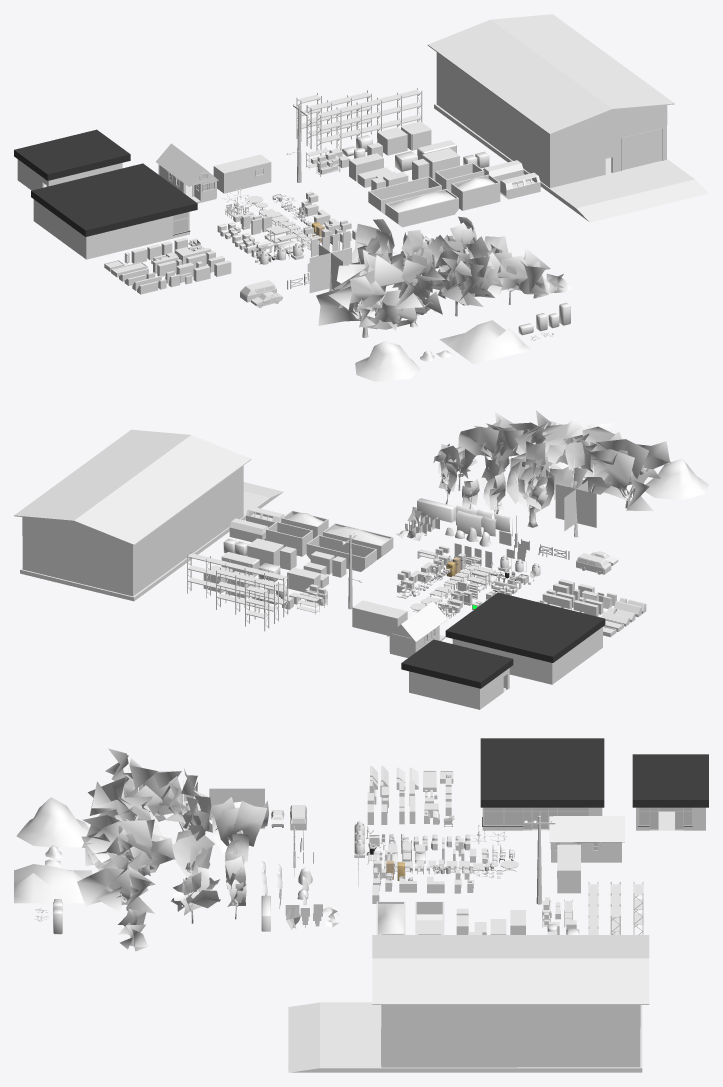
File: props.glb
3 renders of one model, top to bottom at view 1: azimuth 30°, elevation 25°; view 2: azimuth 150°, elevation 25°; view 3: azimuth 270°, elevation 25°, orthographic. The views are drawn at different scales.
Visible parts, largest first — view 1: Cube.067, Cube.144, Arbol, Cube.248, Arbol3, C.028, B4, Arbol2, B.004, Arbol4, B1, Ca (+20 smaller); view 2: Cube.067, Cube.144, Cube.248, Arbol, Arbol13, C.028, Arbol4, B1, Arbol6, Cylinder.042, Arbol3, Ca (+21 smaller); view 3: Cube.067, Cube.144, Cube.248, Arbol3, Arbol4, B4, Arbol2, B1, Arbol, Techo, Arbol13, Arbol6 (+13 smaller).
Boxes of the visible parts, x1,y1,x2,y2 form: Cube.067: (427, 14, 708, 222); Cube.144: (31, 163, 197, 259); Arbol: (316, 250, 417, 337); Cube.248: (14, 129, 130, 190); Arbol3: (438, 250, 510, 316); C.028: (316, 87, 422, 155); B4: (439, 320, 532, 364); Arbol2: (387, 257, 445, 330); B.004: (385, 189, 458, 227); Arbol4: (487, 247, 550, 304); B1: (355, 341, 420, 381); Ca: (213, 154, 271, 193); Cube.067: (14, 429, 283, 601); Cube.144: (445, 592, 605, 684); Cube.248: (401, 639, 513, 709); Arbol: (578, 439, 670, 510); Arbol13: (506, 460, 554, 527); C.028: (187, 551, 288, 617); Arbol4: (458, 412, 523, 459); B1: (645, 458, 708, 500); Arbol6: (544, 442, 613, 500); Cylinder.042: (555, 480, 596, 537); Arbol3: (509, 410, 581, 462); Ca: (352, 600, 407, 635); Cube.067: (288, 935, 649, 1072); Cube.144: (480, 738, 604, 830); Cube.248: (632, 754, 708, 830); Arbol3: (81, 815, 175, 875); Arbol4: (77, 846, 157, 913); B4: (14, 864, 91, 903); Arbol2: (88, 777, 169, 841); B1: (16, 797, 89, 847); Arbol: (97, 748, 188, 821); Techo: (549, 816, 624, 842); Arbol13: (211, 797, 268, 852); Arbol6: (165, 768, 212, 832).
Size of the model in its own units: 149 by 21.95 by 146.
Materials: 168 (25 with a texture image).
